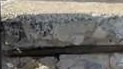Exposed reinforcement: (1, 44, 123, 57)
